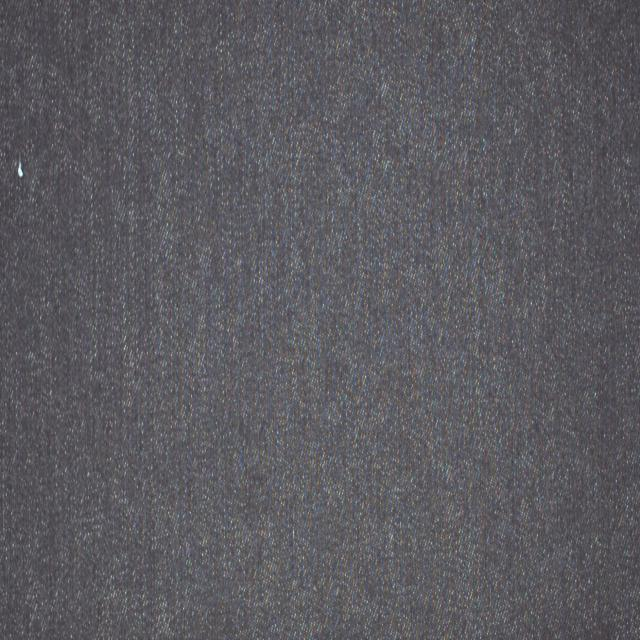Knot: (16, 155, 24, 178)
